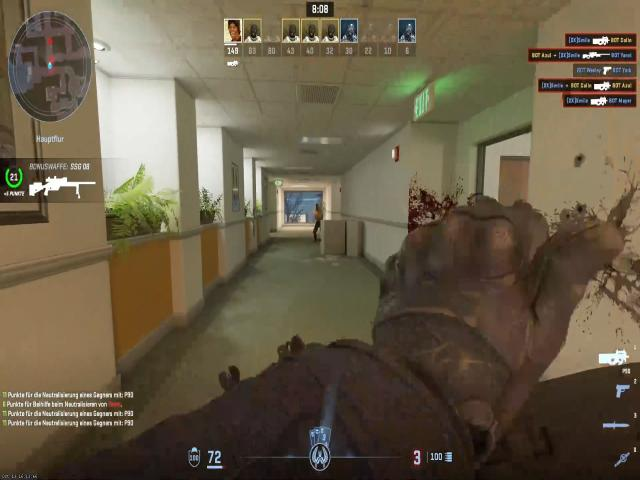T: (312, 202, 326, 222)
T-Head: (313, 203, 323, 212)
